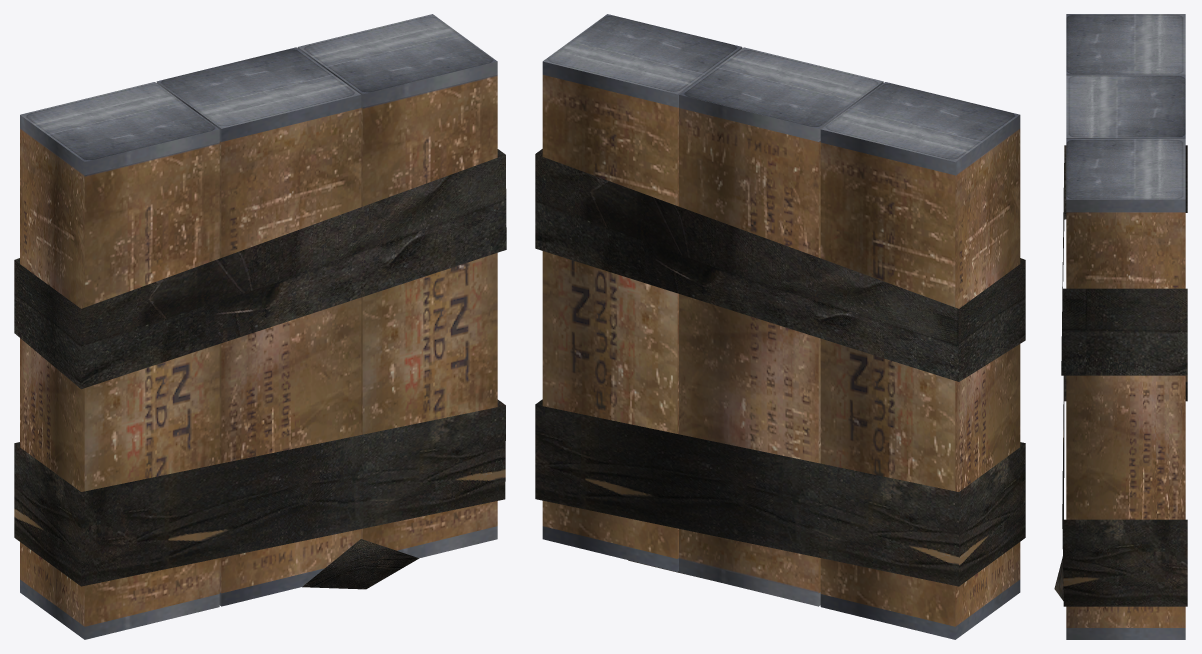
File: weapon_satchel_charge_LOD21.obj
The picture shows the model from 3 angles, left to right: view 1: azimuth 30°, elevation 25°; view 2: azimuth 150°, elevation 25°; view 3: azimuth 270°, elevation 25°; orthographic projection. The views are drawn at different scales.
Parts seen in each view (by area): view 1: TomGroup_1, TomGroup_0; view 2: TomGroup_1; view 3: TomGroup_1, TomGroup_0.
Boxes of the visible parts, x1,y1,x2,y2 form: TomGroup_1: (14, 14, 506, 639); TomGroup_0: (302, 539, 418, 589); TomGroup_1: (535, 14, 1025, 639); TomGroup_1: (1061, 14, 1187, 639); TomGroup_0: (1054, 556, 1063, 600).
Size of the model in its own units: 28.59 by 31.56 by 8.44.
Materials: 2 (2 with a texture image).
